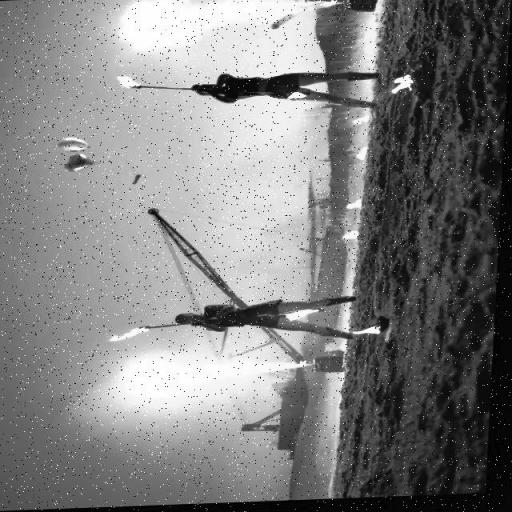balloon: (65, 154, 96, 172), (62, 136, 91, 154)
